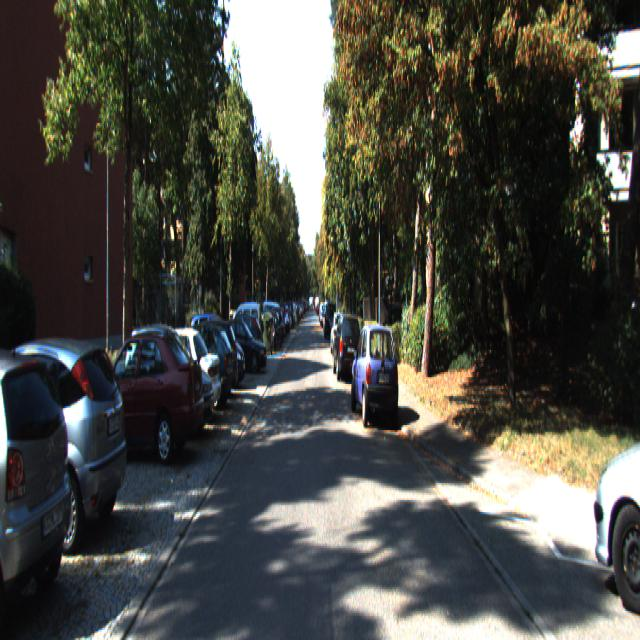Car: (0, 327, 128, 554), (0, 334, 77, 638), (78, 325, 205, 465), (591, 336, 640, 620), (135, 328, 222, 432), (350, 322, 400, 431), (216, 318, 268, 380), (225, 300, 261, 360), (332, 316, 362, 386), (324, 304, 336, 343)
